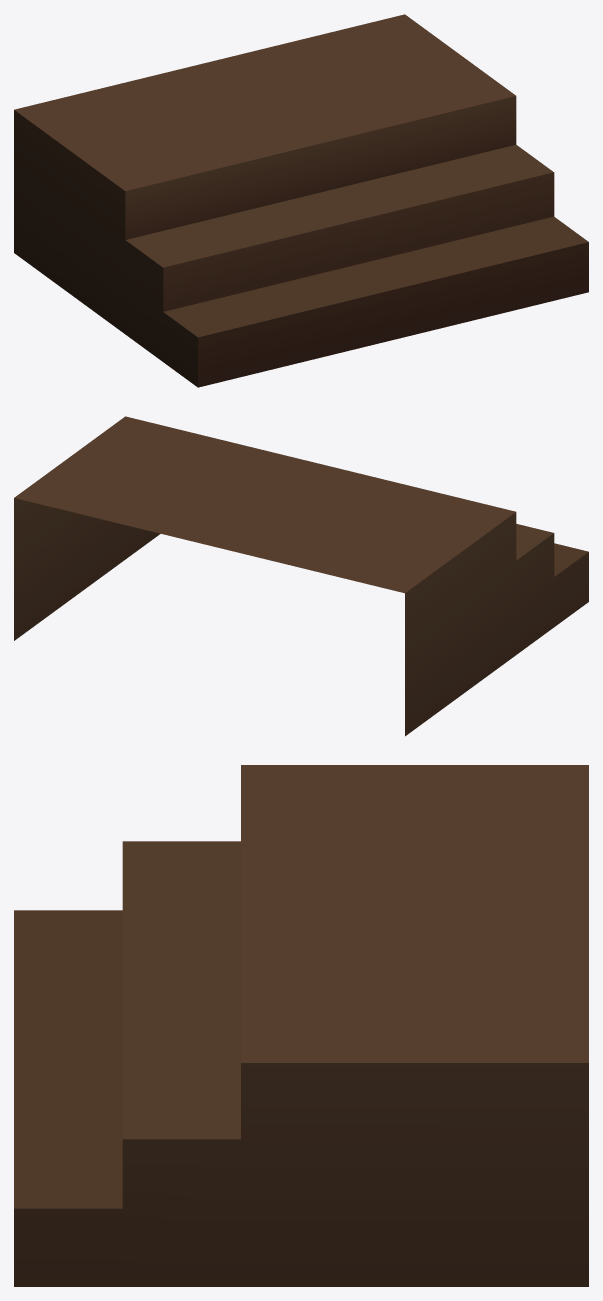
Rendered from Stairs_02B.fbx.
3 views of the same model, one above another, from view 1: azimuth 30°, elevation 25°; view 2: azimuth 150°, elevation 25°; view 3: azimuth 270°, elevation 25° (orthographic). The views are drawn at different scales.
Parts seen in each view (by area): view 1: Stairs_02B; view 2: Stairs_02B; view 3: Stairs_02B.
Boxes of the visible parts, box(x1,y1,x2,y2) form: Stairs_02B: box(14, 14, 588, 387); Stairs_02B: box(14, 416, 588, 736); Stairs_02B: box(14, 765, 588, 1286).
Size of the model in its own units: 154 by 53.98 by 126.
1 material, 1 textured.
